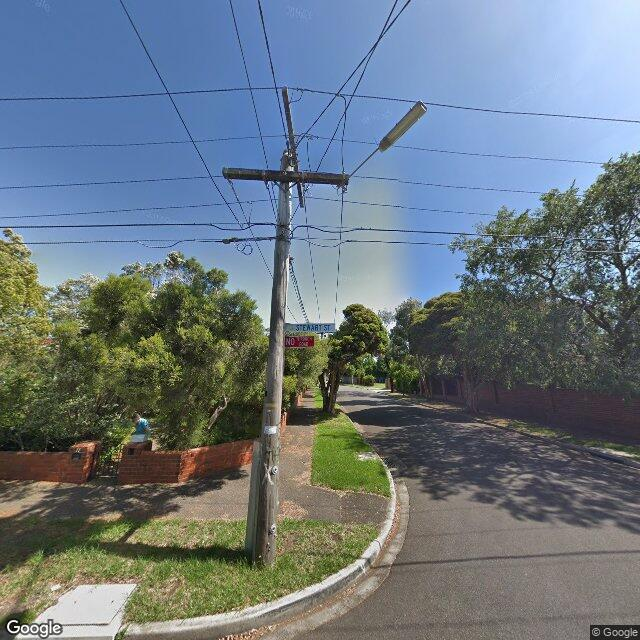crossarm: (282, 87, 304, 208), (222, 167, 349, 186)
timber-pole: (244, 153, 291, 567), (348, 100, 427, 179)
